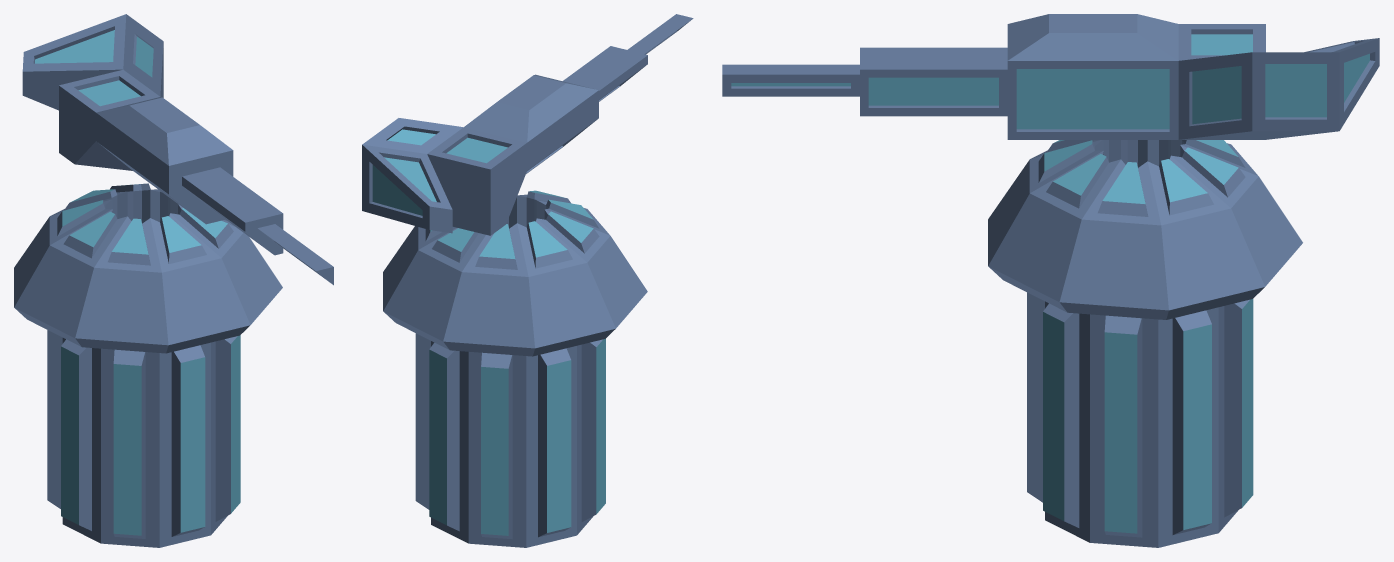
The model's file is tower.glb.
The picture shows the model from 3 angles, left to right: view 1: azimuth 30°, elevation 25°; view 2: azimuth 150°, elevation 25°; view 3: azimuth 270°, elevation 25°; orthographic projection. The views are drawn at different scales.
Parts seen in each view (by area): view 1: human_tower_base, human_tower_head; view 2: human_tower_base, human_tower_head; view 3: human_tower_base, human_tower_head.
Part boxes in pixels (x1,y1,x2,y2): human_tower_base: [14, 183, 282, 547]; human_tower_head: [22, 14, 333, 285]; human_tower_base: [383, 190, 647, 547]; human_tower_head: [362, 14, 693, 235]; human_tower_base: [988, 140, 1302, 547]; human_tower_head: [722, 14, 1379, 139].
Bounding box in the file's own units: 3.14 × 5.32 × 6.45.
Materials: 1 (1 with a texture image).
